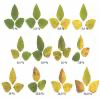Soybean leaf: (79, 3, 88, 23), (56, 3, 65, 23), (32, 2, 41, 22), (10, 3, 20, 21), (16, 34, 25, 53), (3, 17, 15, 31), (36, 34, 45, 52), (37, 17, 49, 30), (25, 17, 37, 30), (32, 49, 43, 62), (21, 50, 32, 62), (27, 82, 38, 93), (37, 79, 47, 91), (15, 17, 25, 29), (72, 51, 81, 63)
